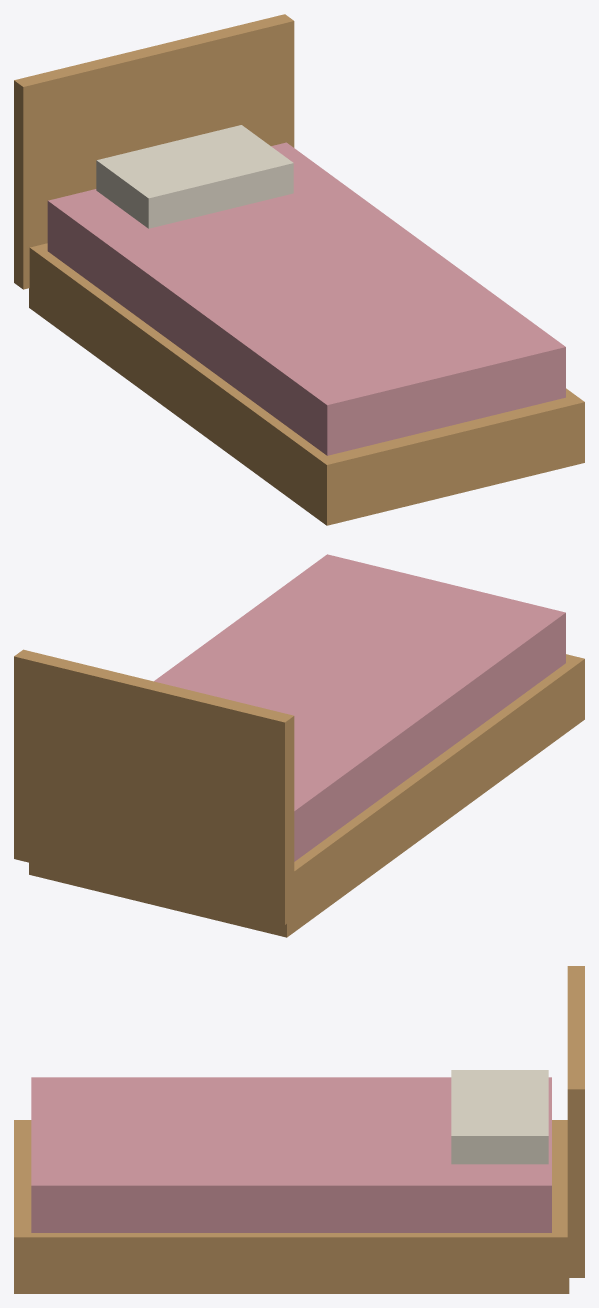
The model's file is GH_Bed_Child_01.glb.
The picture shows the model from 3 angles, top to bottom: view 1: azimuth 30°, elevation 25°; view 2: azimuth 150°, elevation 25°; view 3: azimuth 270°, elevation 25°; orthographic projection. The views are drawn at different scales.
Parts seen in each view (by area): view 1: GH_Bed_Child_01; view 2: GH_Bed_Child_01; view 3: GH_Bed_Child_01.
Boxes of the visible parts, bbox=[...] form: GH_Bed_Child_01: bbox=[14, 14, 584, 525]; GH_Bed_Child_01: bbox=[14, 554, 584, 937]; GH_Bed_Child_01: bbox=[14, 966, 584, 1293].
Size of the model in its own units: 0.84 by 0.66 by 1.64.
1 material, 1 textured.
